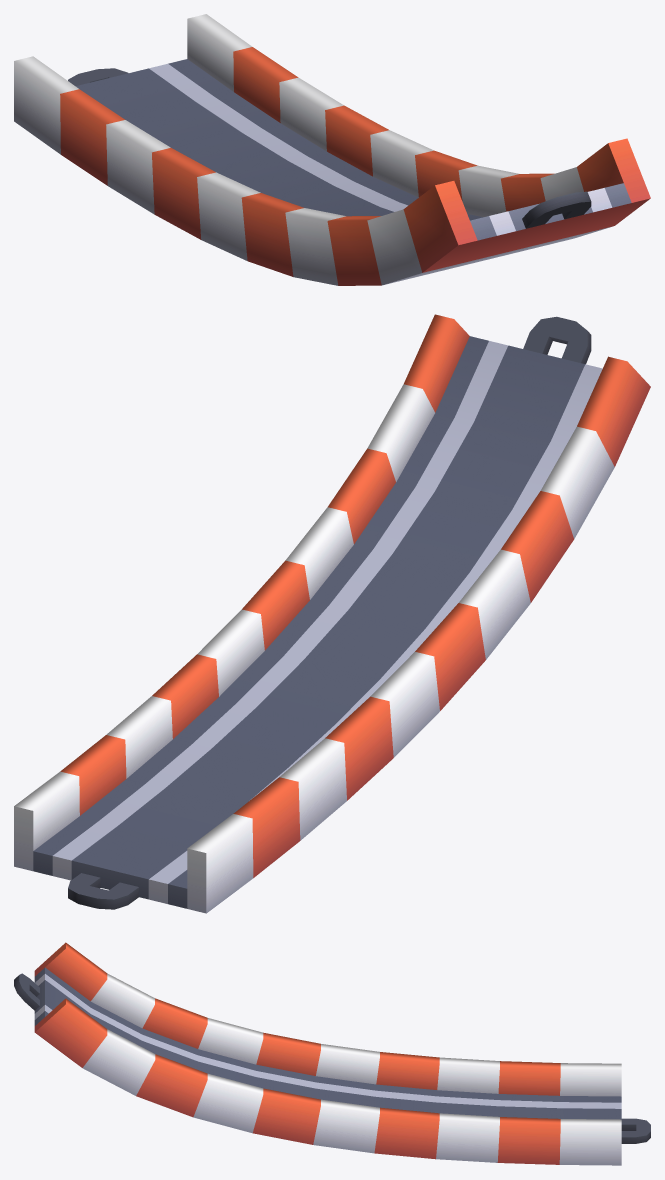
Rendered from track-road-narrow-straight-hill-beginning.glb.
The picture shows the model from 3 angles, top to bottom: view 1: azimuth 30°, elevation 25°; view 2: azimuth 150°, elevation 25°; view 3: azimuth 270°, elevation 25°; orthographic projection. The views are drawn at different scales.
Parts seen in each view (by area): view 1: track-road-narrow-straight-hill-beginning; view 2: track-road-narrow-straight-hill-beginning; view 3: track-road-narrow-straight-hill-beginning.
Boxes of the visible parts, box(x1,y1,x2,y2) form: track-road-narrow-straight-hill-beginning: box(14, 14, 650, 285); track-road-narrow-straight-hill-beginning: box(14, 314, 650, 913); track-road-narrow-straight-hill-beginning: box(14, 942, 650, 1165).
Bounding box in the file's own units: 1 × 1.21 × 4.34.
1 material, 1 textured.
